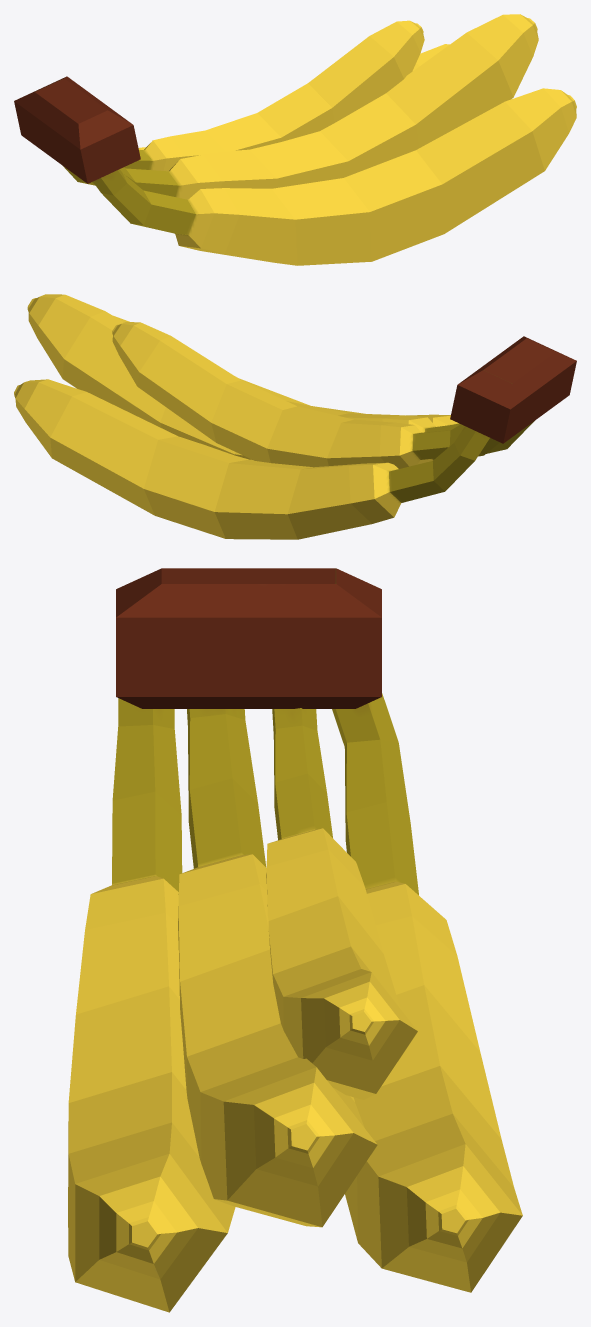
Rendered from banana.fbx.
The picture shows the model from 3 angles, top to bottom: view 1: azimuth 30°, elevation 25°; view 2: azimuth 150°, elevation 25°; view 3: azimuth 270°, elevation 25°; orthographic projection. The views are drawn at different scales.
Parts seen in each view (by area): view 1: Banana; view 2: Banana; view 3: Banana.
Boxes of the visible parts, box(x1,y1,x2,y2) form: Banana: box(14, 14, 576, 265); Banana: box(14, 294, 576, 539); Banana: box(68, 568, 522, 1312).
Size of the model in its own units: 212 by 84.2 by 83.18.
